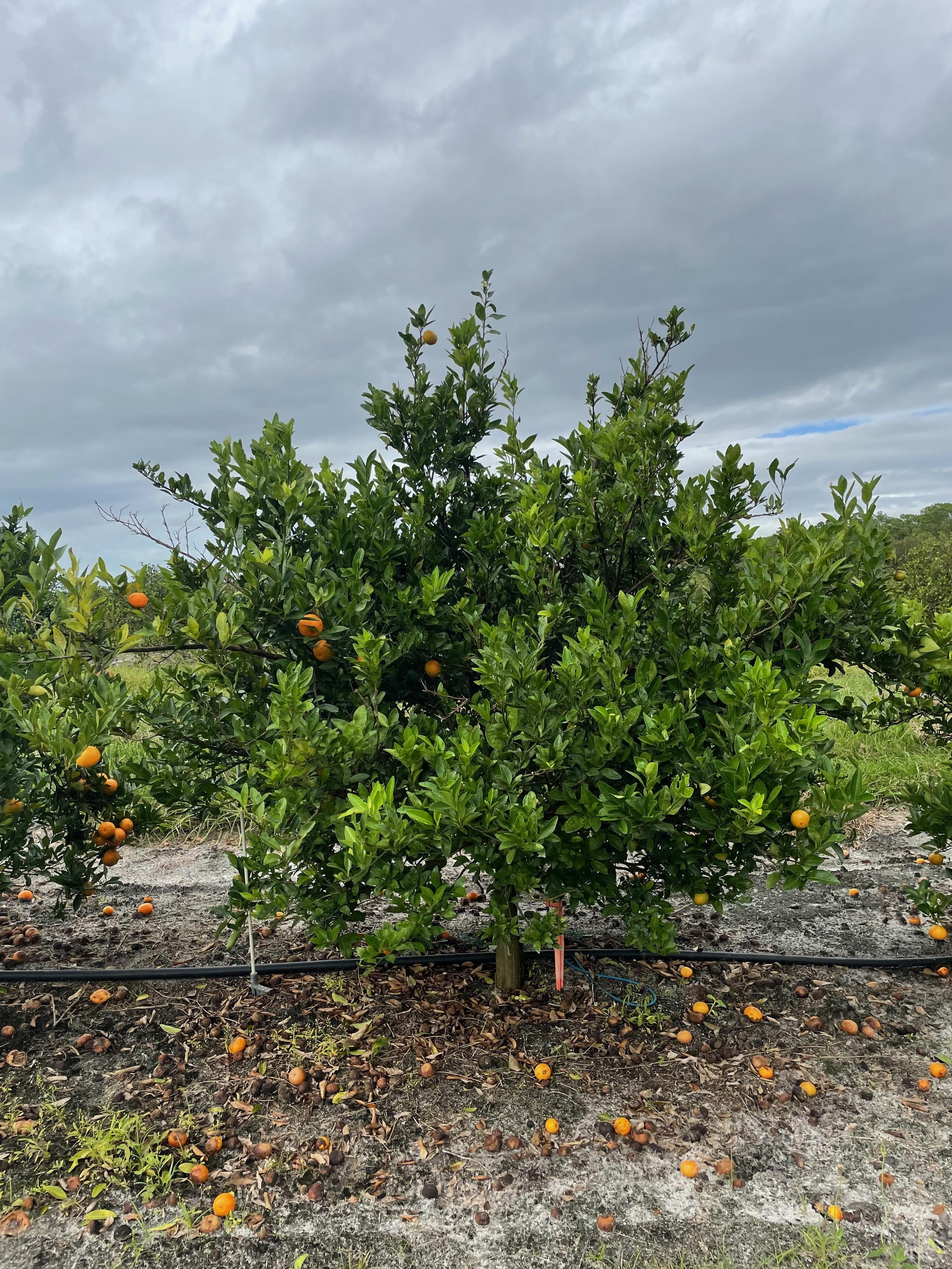fruit_on_ground: (295, 611, 326, 639), (73, 743, 102, 770), (310, 637, 337, 664), (0, 794, 24, 819), (126, 588, 150, 611), (788, 807, 812, 830), (95, 819, 117, 841), (421, 658, 444, 679), (702, 788, 724, 809), (927, 923, 949, 943), (690, 887, 711, 907), (902, 680, 924, 699), (100, 777, 120, 797), (72, 775, 93, 794), (100, 848, 121, 867), (420, 328, 440, 347), (89, 829, 109, 847), (79, 880, 97, 897), (110, 825, 128, 842), (927, 850, 945, 867), (118, 816, 136, 832), (105, 833, 123, 849), (93, 769, 109, 786), (892, 568, 907, 583)
fruit_on_tree: (211, 1191, 237, 1217), (197, 1212, 223, 1234), (595, 1211, 619, 1234), (188, 1162, 211, 1184), (201, 1134, 225, 1155), (4, 1048, 29, 1068), (166, 1127, 189, 1148), (305, 1181, 327, 1202), (251, 1140, 274, 1160), (88, 986, 112, 1005), (679, 1158, 700, 1178), (612, 1117, 633, 1136), (689, 999, 710, 1018), (625, 867, 647, 885), (227, 1035, 247, 1054), (287, 1066, 307, 1085), (417, 1059, 436, 1079), (532, 1062, 552, 1081), (742, 1004, 763, 1022), (76, 1031, 96, 1048), (862, 1016, 882, 1033), (686, 1007, 707, 1023), (826, 1204, 844, 1222), (929, 1060, 947, 1078), (321, 1079, 340, 1096), (93, 1036, 112, 1053), (798, 1080, 817, 1097), (840, 1017, 859, 1034), (473, 1209, 490, 1227), (315, 1134, 332, 1152), (544, 1116, 561, 1134), (16, 887, 35, 903), (877, 1171, 895, 1187), (805, 1016, 824, 1030), (759, 1063, 775, 1079), (677, 1028, 693, 1044), (23, 925, 40, 940), (2, 1021, 17, 1038), (464, 887, 481, 902), (749, 1053, 766, 1068), (860, 1023, 877, 1038), (915, 1076, 931, 1091), (138, 901, 154, 916), (10, 949, 26, 963), (678, 964, 694, 978), (439, 926, 453, 940), (101, 903, 116, 916), (259, 925, 274, 937), (794, 984, 809, 996), (11, 934, 25, 946), (907, 914, 921, 926), (937, 966, 950, 977), (847, 886, 860, 897), (914, 856, 927, 866), (142, 894, 155, 904), (840, 846, 851, 857)
